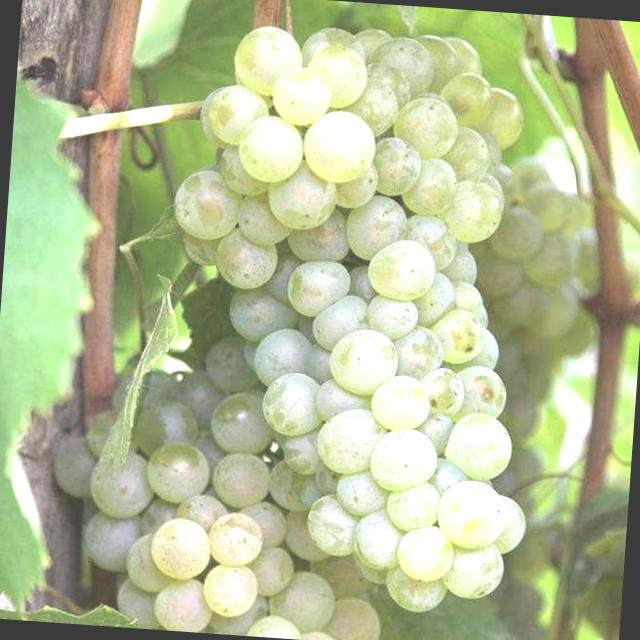Grape Unripe: (153, 6, 562, 615), (66, 347, 394, 640)
